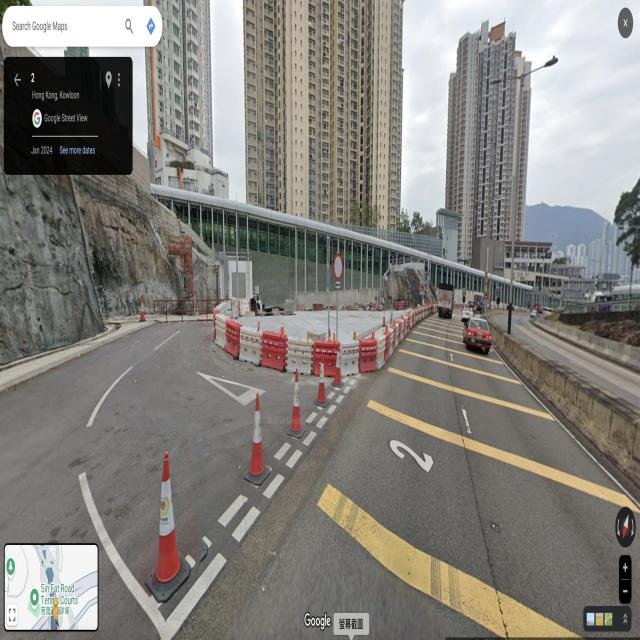Order-Sign: (334, 256, 342, 277), (336, 281, 340, 288)
